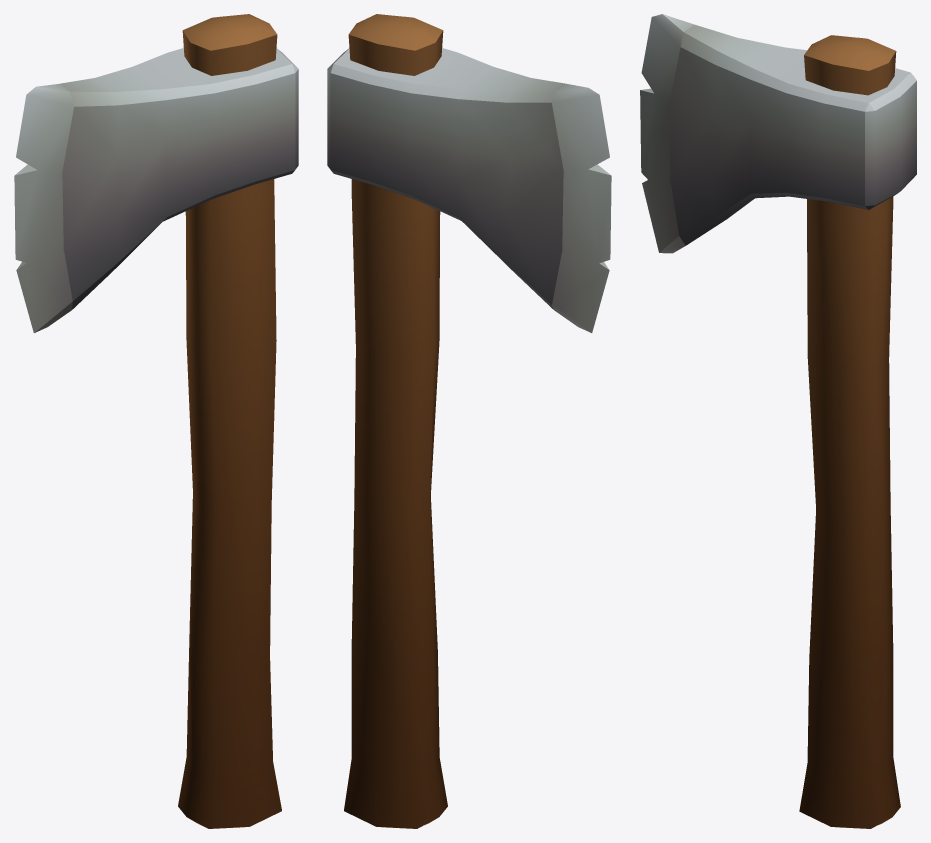
File: Axe_02.glb
The picture shows the model from 3 angles, left to right: view 1: azimuth 30°, elevation 25°; view 2: azimuth 150°, elevation 25°; view 3: azimuth 330°, elevation 25°; orthographic projection. The views are drawn at different scales.
Parts seen in each view (by area): view 1: Axe_02; view 2: Axe_02; view 3: Axe_02.
Part boxes in pixels (box(x1,y1,x2,y2)): Axe_02: box(14, 14, 298, 828); Axe_02: box(327, 14, 611, 828); Axe_02: box(640, 14, 916, 828).
Bounding box in the file's own units: 0.3624 × 1.03 × 0.1256.
1 material, 1 textured.
